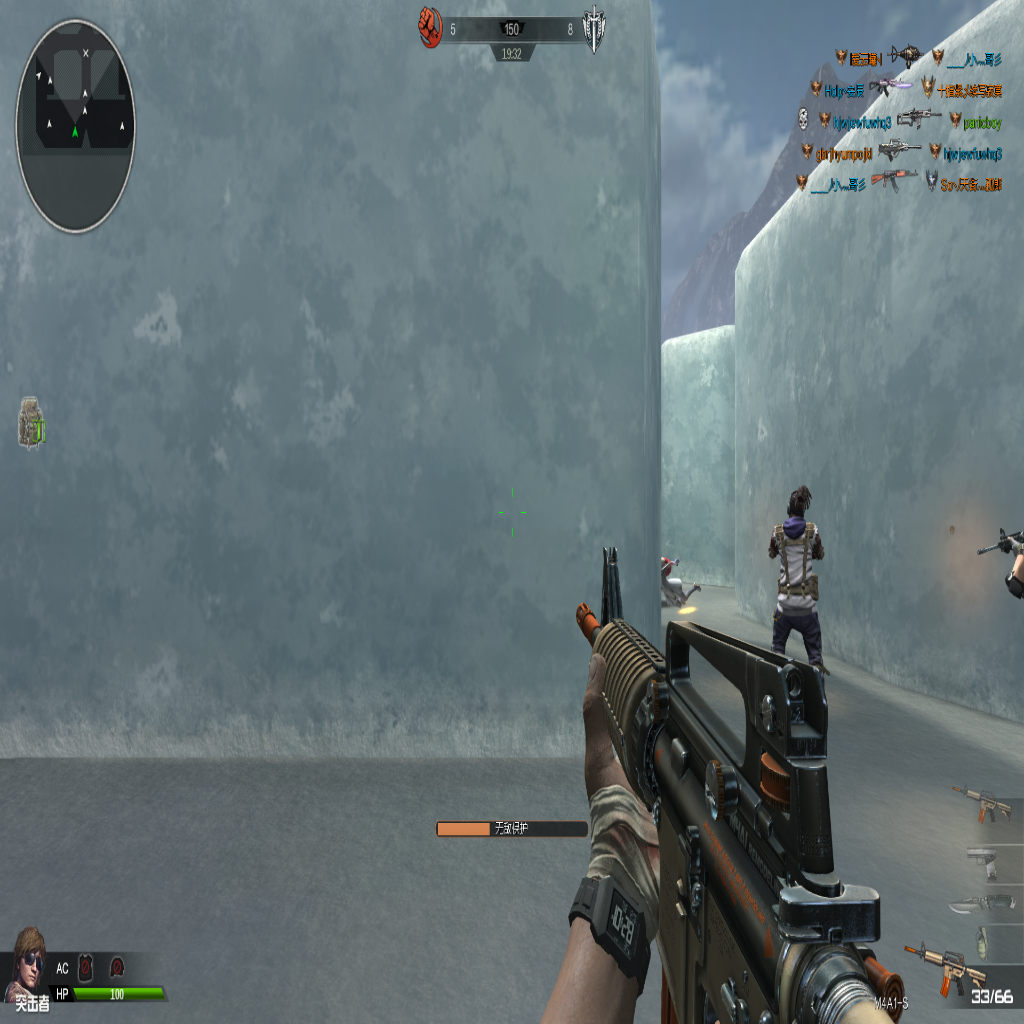tt: (767, 482, 826, 674)
